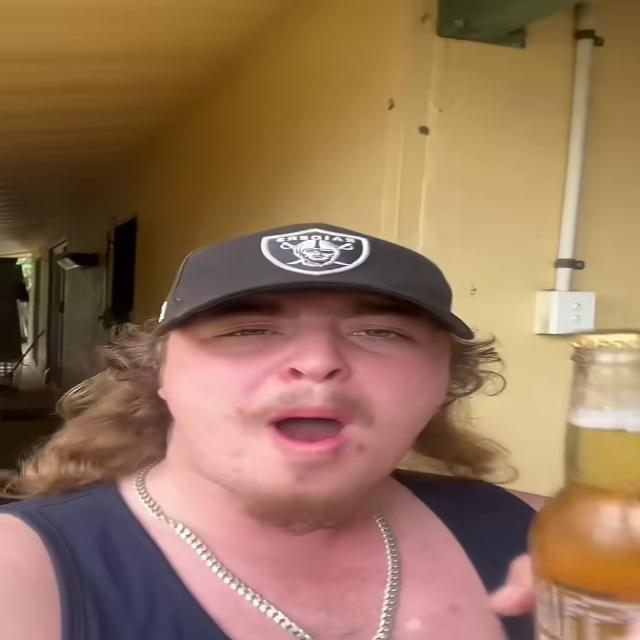Bottle: (529, 334, 639, 639)
Hand: (490, 537, 640, 640)
Mouth: (256, 405, 361, 452)
